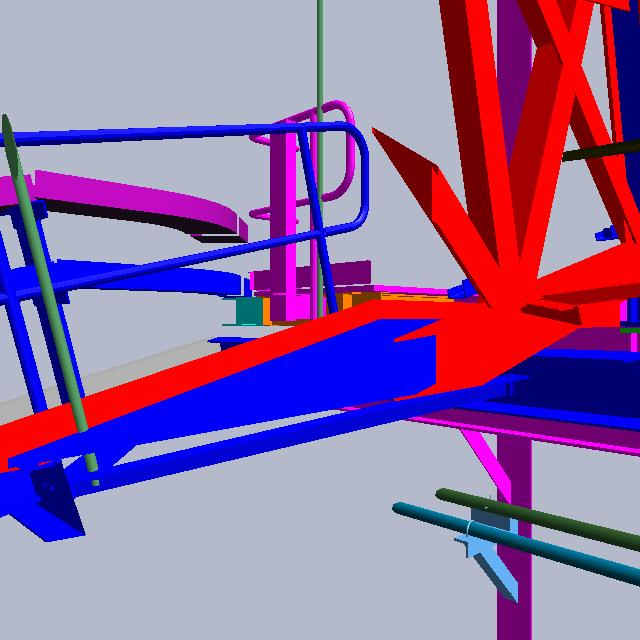Poste: (310, 1, 335, 322)
Soporte: (265, 102, 328, 335)
